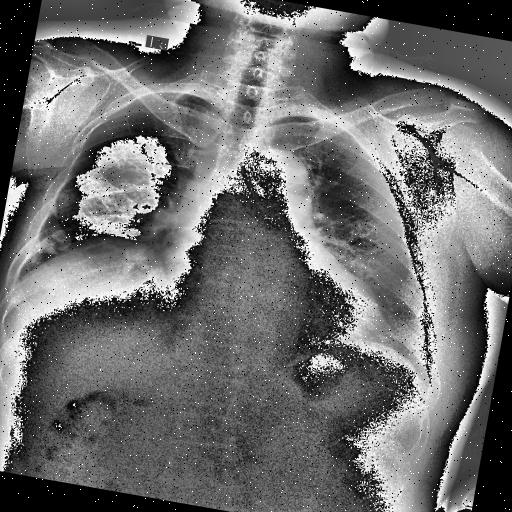0- Aortic enlargement: (240, 142, 325, 224), (232, 140, 321, 214), (244, 146, 318, 224)
2- Calcification: (24, 222, 74, 268), (48, 177, 85, 223)
3- Cardiomegaly: (151, 240, 393, 348), (156, 228, 389, 340), (152, 236, 386, 339)
8- Nodule-Mass: (24, 224, 73, 271), (46, 185, 81, 223)
9- Other lesion: (25, 222, 72, 269), (46, 175, 85, 222)
